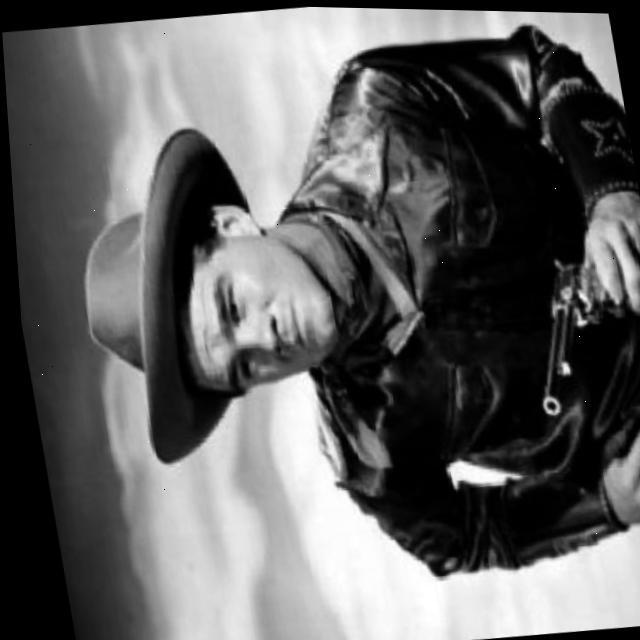gun: (510, 239, 640, 420)
